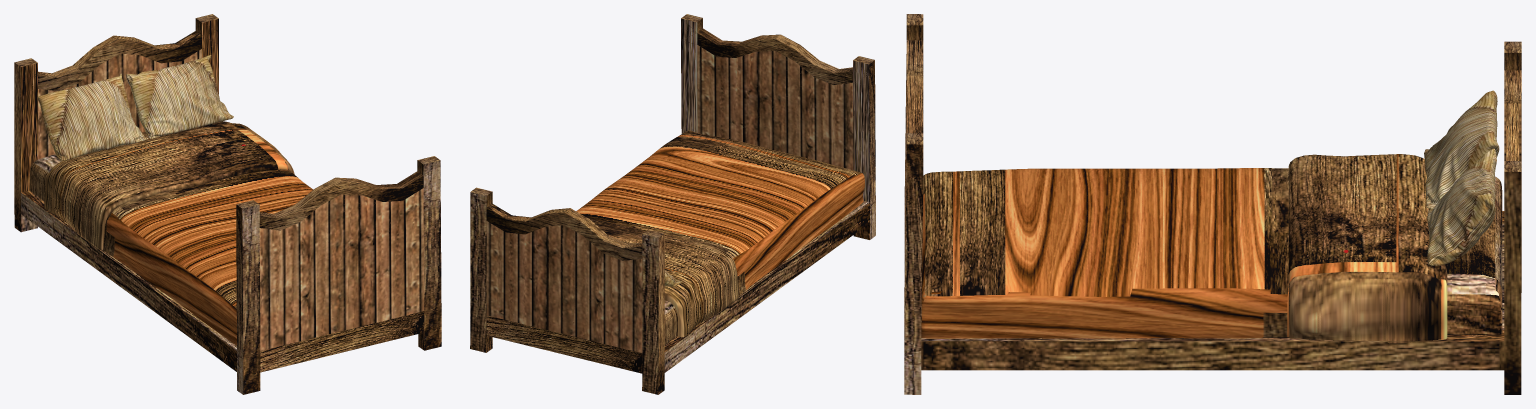
Rendered from Letto.fbx.
The picture shows the model from 3 angles, left to right: view 1: azimuth 30°, elevation 25°; view 2: azimuth 150°, elevation 25°; view 3: azimuth 270°, elevation 25°; orthographic projection. The views are drawn at different scales.
Visible parts, largest first — view 1: Struttura Esterna, Materasso, Cuscini; view 2: Struttura Esterna, Materasso; view 3: Materasso, Struttura Esterna, Cuscini.
Part boxes in pixels (bbox=[...]): Struttura Esterna: bbox=[14, 14, 441, 394]; Materasso: bbox=[29, 121, 313, 345]; Cuscini: bbox=[37, 55, 233, 160]; Struttura Esterna: bbox=[470, 14, 875, 394]; Materasso: bbox=[576, 130, 864, 344]; Materasso: bbox=[921, 154, 1502, 343]; Struttura Esterna: bbox=[904, 14, 1521, 394]; Cuscini: bbox=[1424, 90, 1499, 265].
Size of the model in its own units: 441 by 396 by 871.
